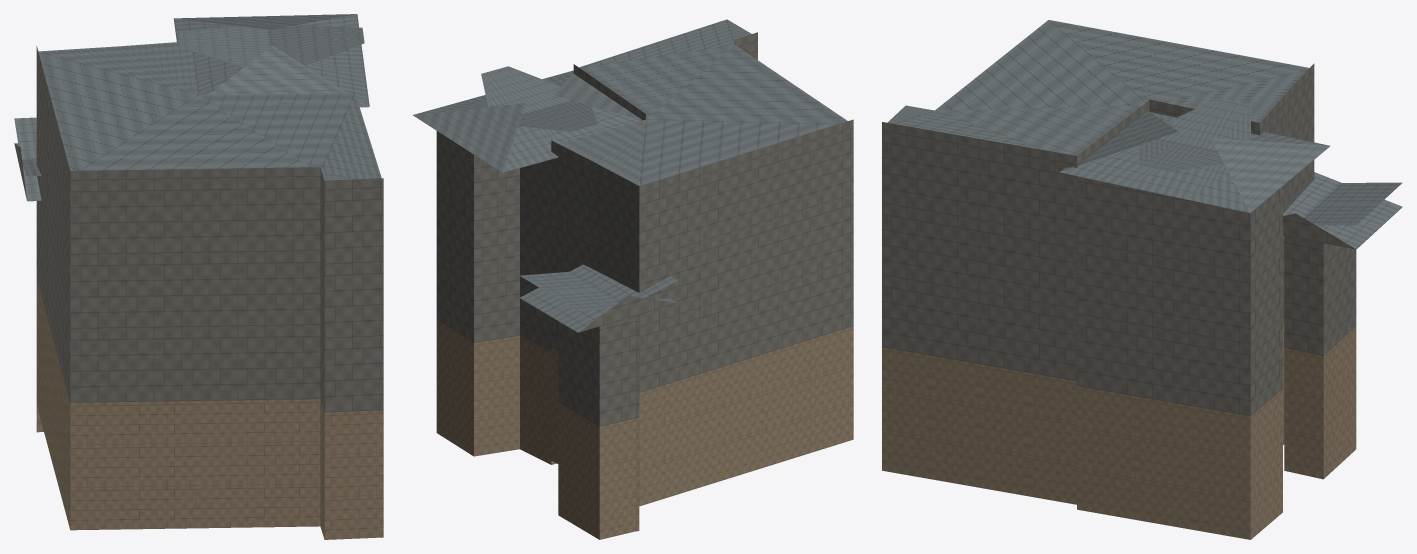
File: bld_c-23_11_547.gltf
3 renders of one model, left to right at view 1: azimuth 30°, elevation 25°; view 2: azimuth 150°, elevation 25°; view 3: azimuth 270°, elevation 25°, orthographic. The views are drawn at different scales.
Parts seen in each view (by area): view 1: bld_c-23_11_547; view 2: bld_c-23_11_547; view 3: bld_c-23_11_547.
Boxes of the visible parts, x1,y1,x2,y2 form: bld_c-23_11_547: (14, 14, 383, 539); bld_c-23_11_547: (413, 19, 853, 539); bld_c-23_11_547: (882, 20, 1402, 539).
Size of the model in its own units: 16.38 by 15.9 by 19.46.
Materials: 4 (4 with a texture image).
